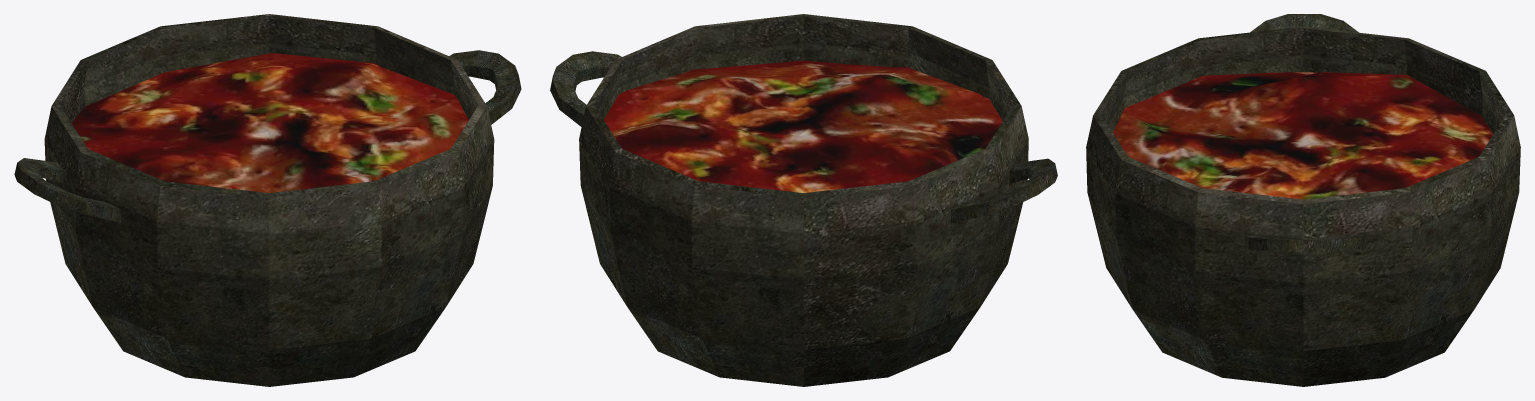
File: KM_ITFO_FOODPOT.glb
3 renders of one model, left to right at view 1: azimuth 30°, elevation 25°; view 2: azimuth 150°, elevation 25°; view 3: azimuth 270°, elevation 25°, orthographic. The views are drawn at different scales.
Visible parts, largest first — view 1: KM_ITFO_FOODPOT; view 2: KM_ITFO_FOODPOT; view 3: KM_ITFO_FOODPOT.
Boxes of the visible parts, x1=… form: KM_ITFO_FOODPOT: x1=14, y1=14, x2=521, y2=386; KM_ITFO_FOODPOT: x1=550, y1=14, x2=1057, y2=386; KM_ITFO_FOODPOT: x1=1086, y1=14, x2=1520, y2=386.
Size of the model in its own units: 0.4899 by 0.2342 by 0.3932.
2 materials, 2 textured.
